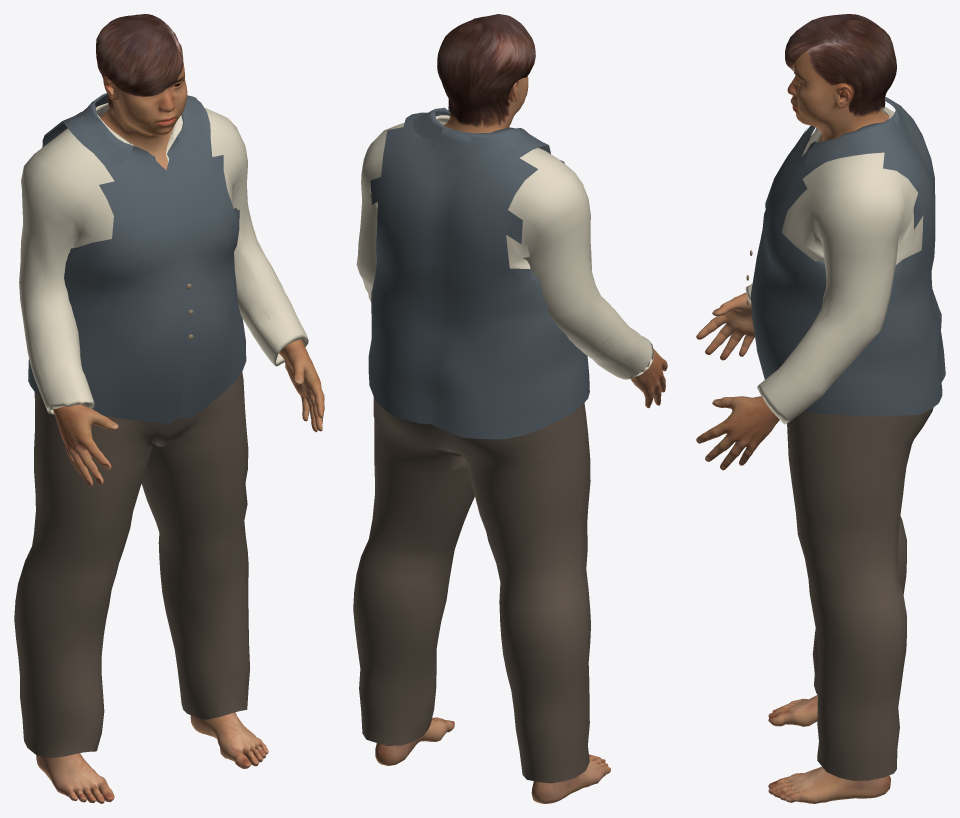
The model's file is record_clerk.glb.
3 renders of one model, left to right at view 1: azimuth 30°, elevation 25°; view 2: azimuth 150°, elevation 25°; view 3: azimuth 270°, elevation 25°, orthographic.
Parts seen in each view (by area): view 1: Clerk full length trousers_static_preview, Clerk buttoned sleeveless waistcoat_static_preview, Fitted cotton upper base_static_preview, record_clerk_MakeHuman_body_static_preview, Farmer_hair_static_preview; view 2: Clerk full length trousers_static_preview, Clerk buttoned sleeveless waistcoat_static_preview, Fitted cotton upper base_static_preview, Farmer_hair_static_preview, record_clerk_MakeHuman_body_static_preview; view 3: Clerk full length trousers_static_preview, Clerk buttoned sleeveless waistcoat_static_preview, Fitted cotton upper base_static_preview, record_clerk_MakeHuman_body_static_preview, Farmer_hair_static_preview.
Part boxes in pixels (box(x1,y1,x2,y2)): Clerk full length trousers_static_preview: box(14, 372, 249, 758); Clerk buttoned sleeveless waistcoat_static_preview: box(28, 93, 246, 423); Fitted cotton upper base_static_preview: box(19, 103, 308, 414); record_clerk_MakeHuman_body_static_preview: box(36, 50, 324, 803); Farmer_hair_static_preview: box(96, 14, 183, 115); Clerk full length trousers_static_preview: box(353, 397, 590, 783); Clerk buttoned sleeveless waistcoat_static_preview: box(368, 107, 589, 439); Fitted cotton upper base_static_preview: box(356, 115, 654, 379); Farmer_hair_static_preview: box(437, 14, 535, 126); record_clerk_MakeHuman_body_static_preview: box(375, 76, 667, 803); Clerk full length trousers_static_preview: box(787, 407, 933, 780); Clerk buttoned sleeveless waistcoat_static_preview: box(750, 97, 945, 416); Fitted cotton upper base_static_preview: box(745, 106, 923, 424); record_clerk_MakeHuman_body_static_preview: box(696, 51, 890, 803); Farmer_hair_static_preview: box(785, 14, 896, 116).
Size of the model in its own units: 0.6068 by 1.65 by 0.5058.
Materials: 9 (4 with a texture image).
